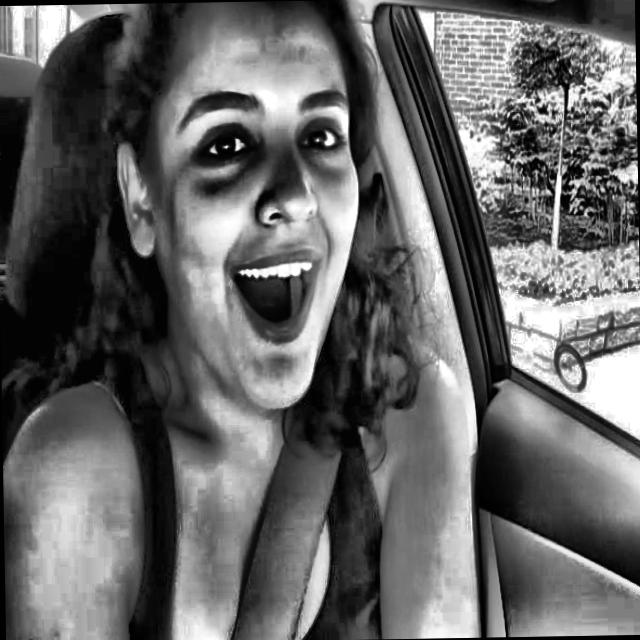open_eyes: (178, 121, 269, 177), (292, 112, 354, 165)
open_mouth: (219, 241, 334, 357)
